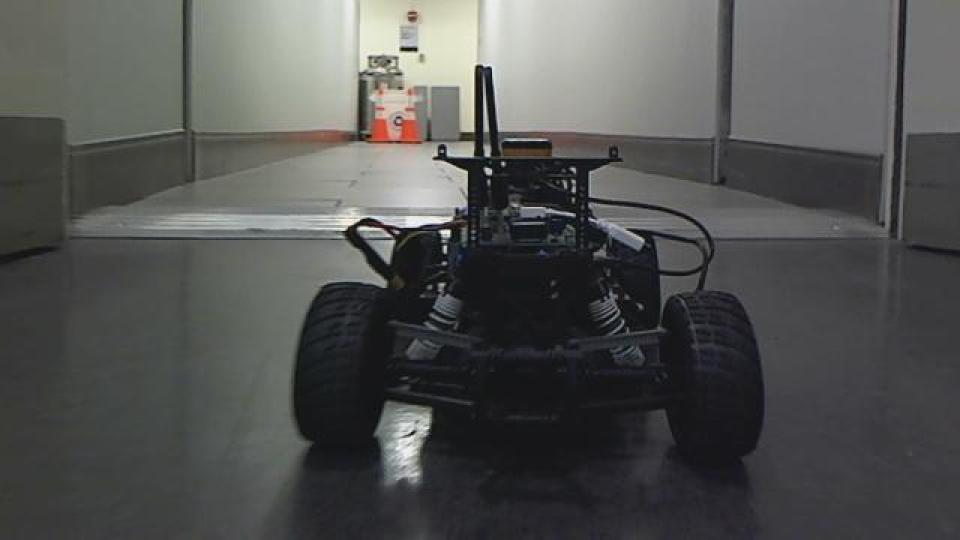car: (288, 61, 768, 466)
